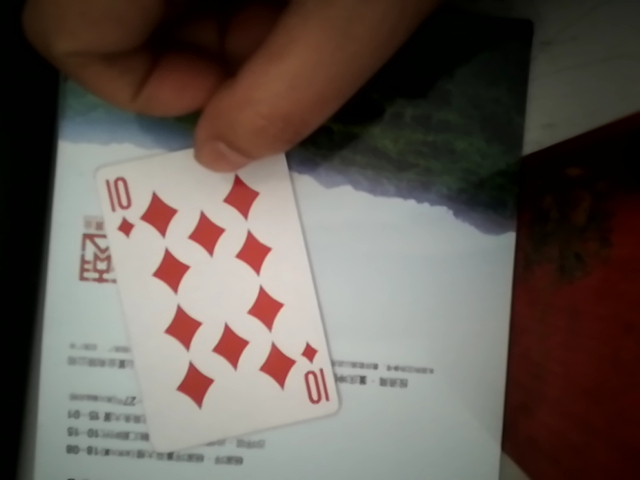fk 10: (90, 138, 337, 456)
